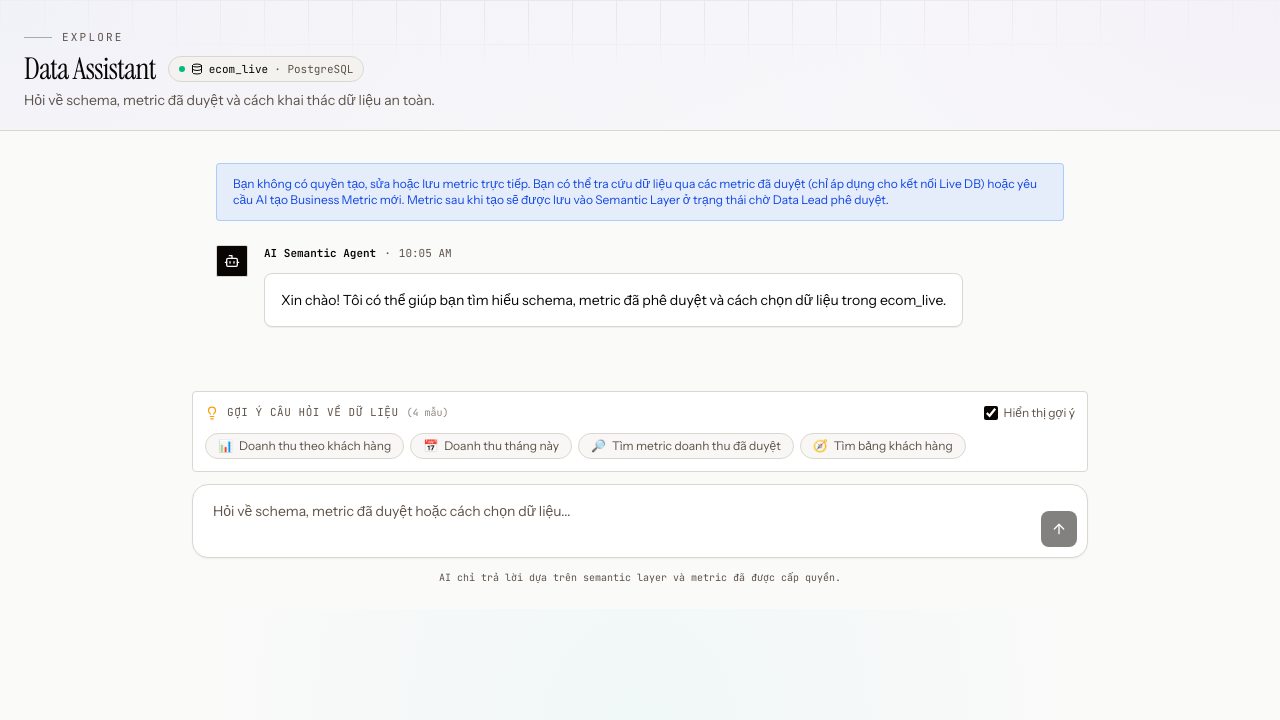
Test: AIStudioView › resolves an option in place without a duplicate user bubble
Type "Doanh thu" into the text box with placeholder "Hỏi về schema, metric đã duyệt hoặc cách chọn dữ liệu...".
click(618, 521); type("Doanh thu")  # box [203,495,1033,547]
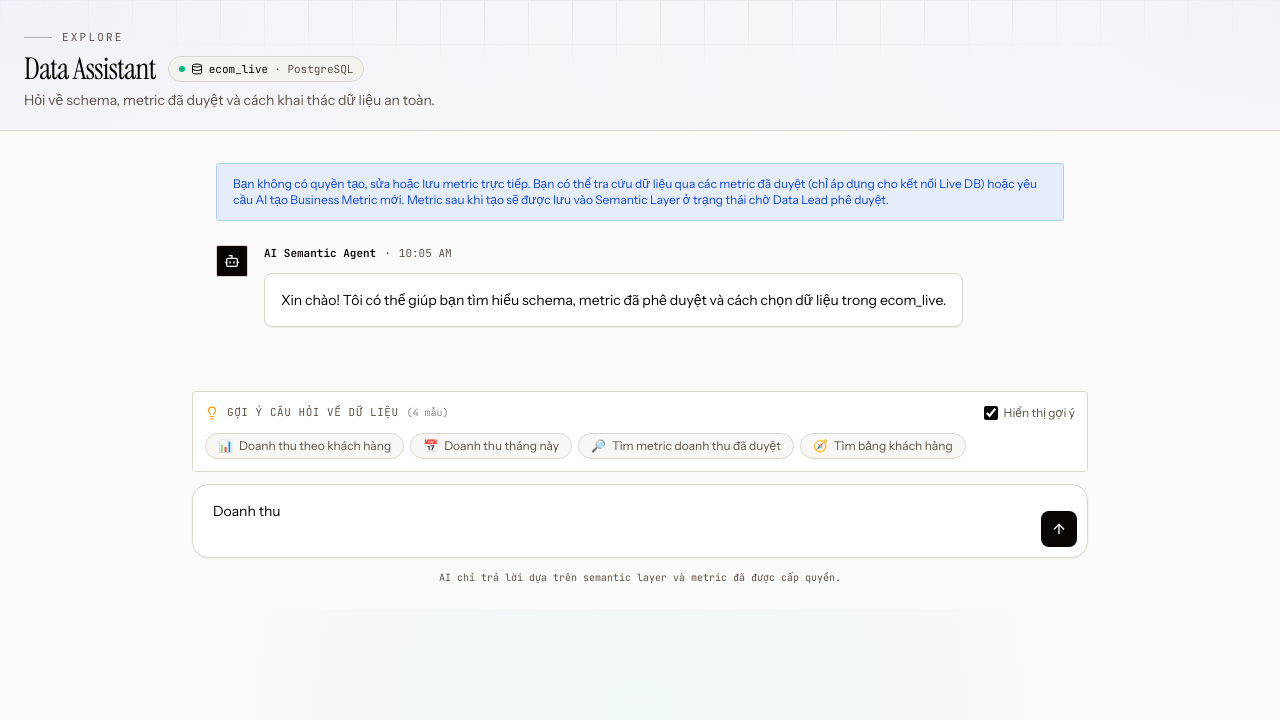
Click the button named "Send message".
click(1059, 529)  # box [1041,511,1077,547]
(page scrolled)
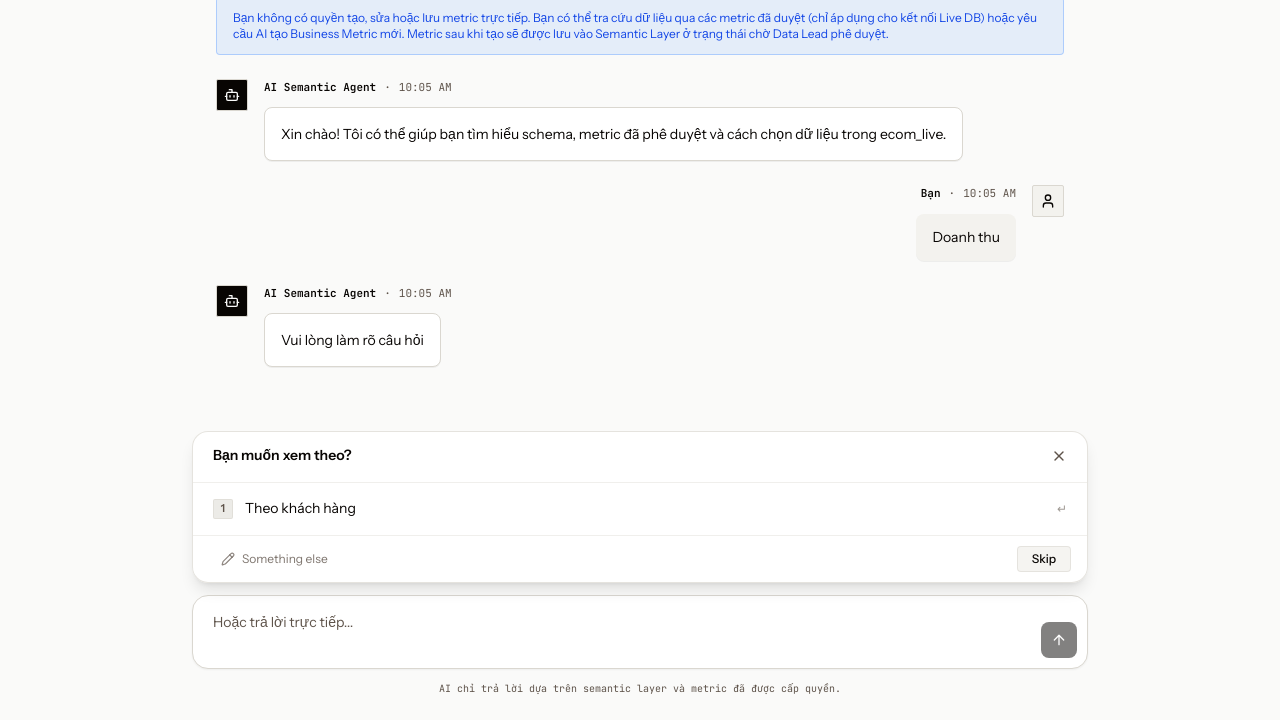
Result: the element with test id "clarification-card" is shown at [192,431,1088,583]
Click the text "Theo khách hàng".
click(300, 508)  # box [245,499,356,517]
(page scrolled)
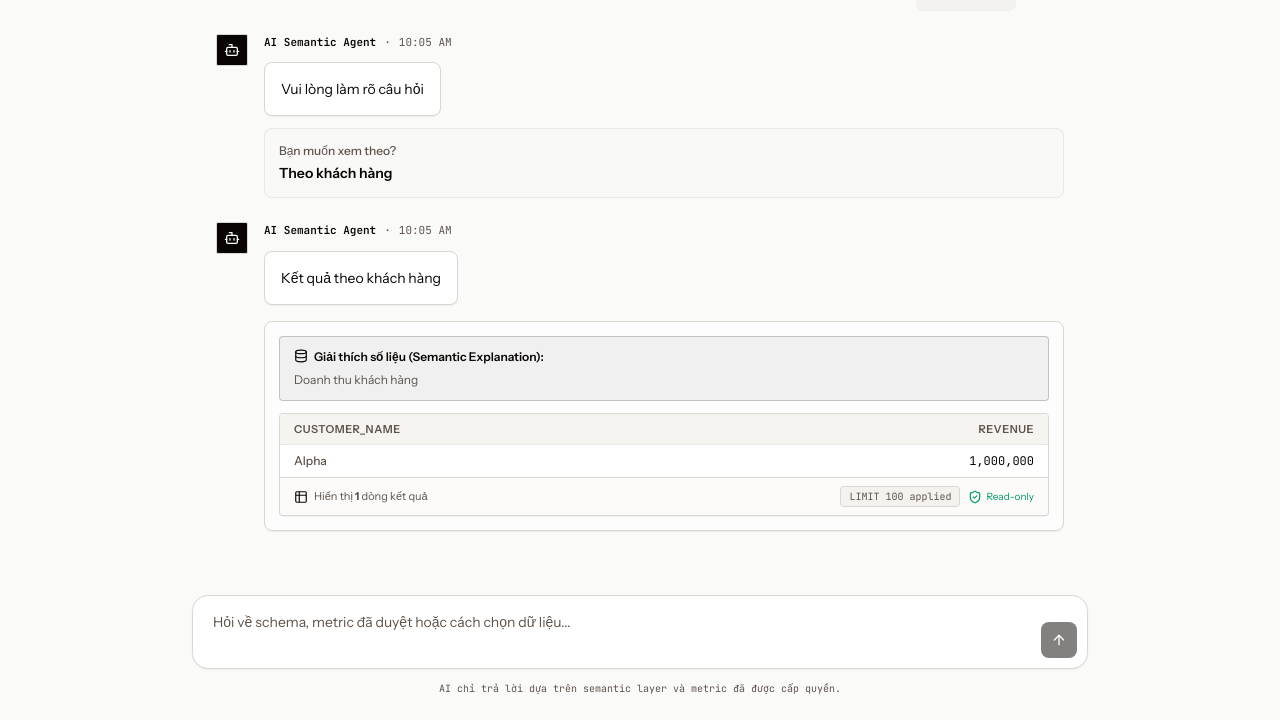
Result: the text "Alpha" is shown at [280,445,735,477]
Result: the text "1,000,000" is shown at [735,445,1048,477]
